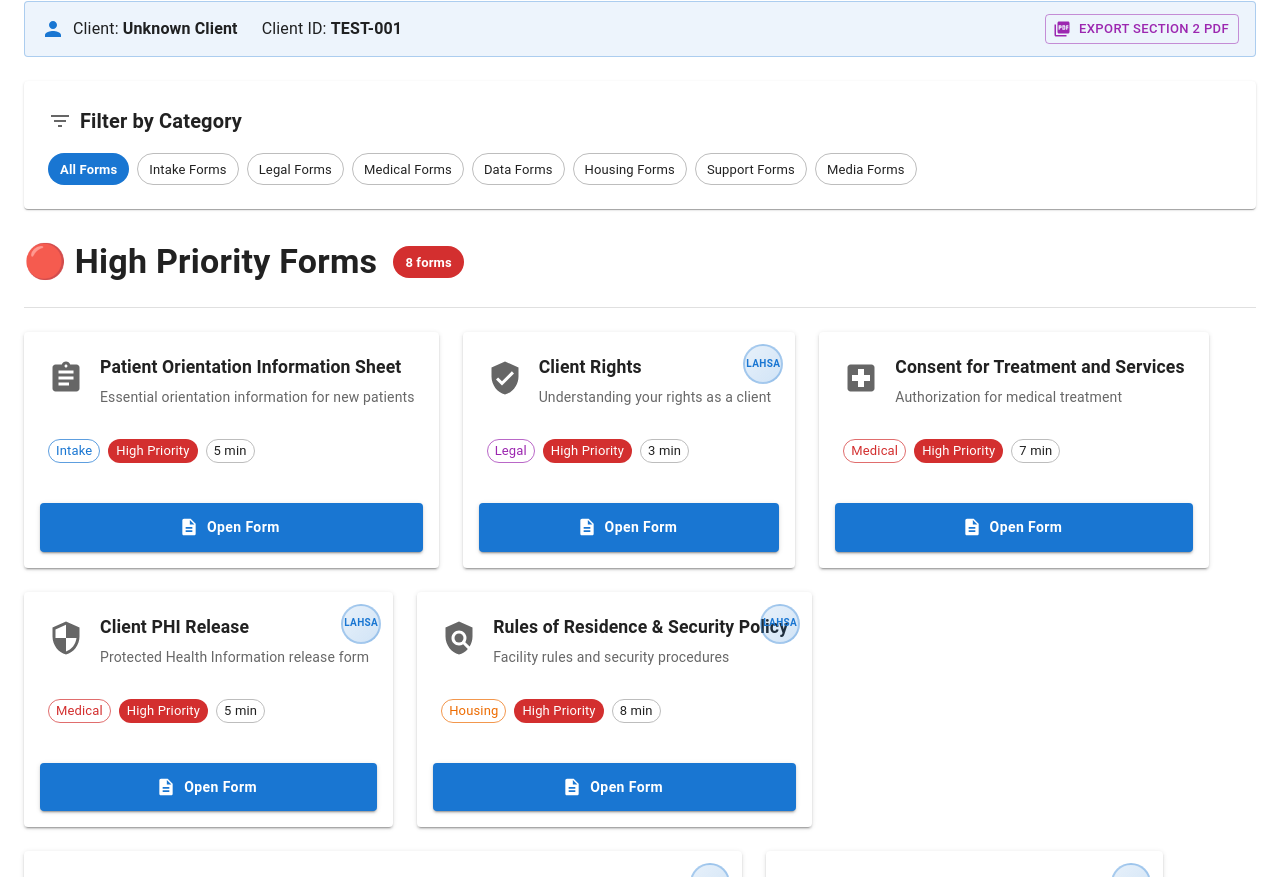
AuthSig - Authorization Forms Container › Modal Functionality › should display correct form in modal
(page scrolled)
Click the text "Client Rights" at (629,450), box [463,332,795,568]
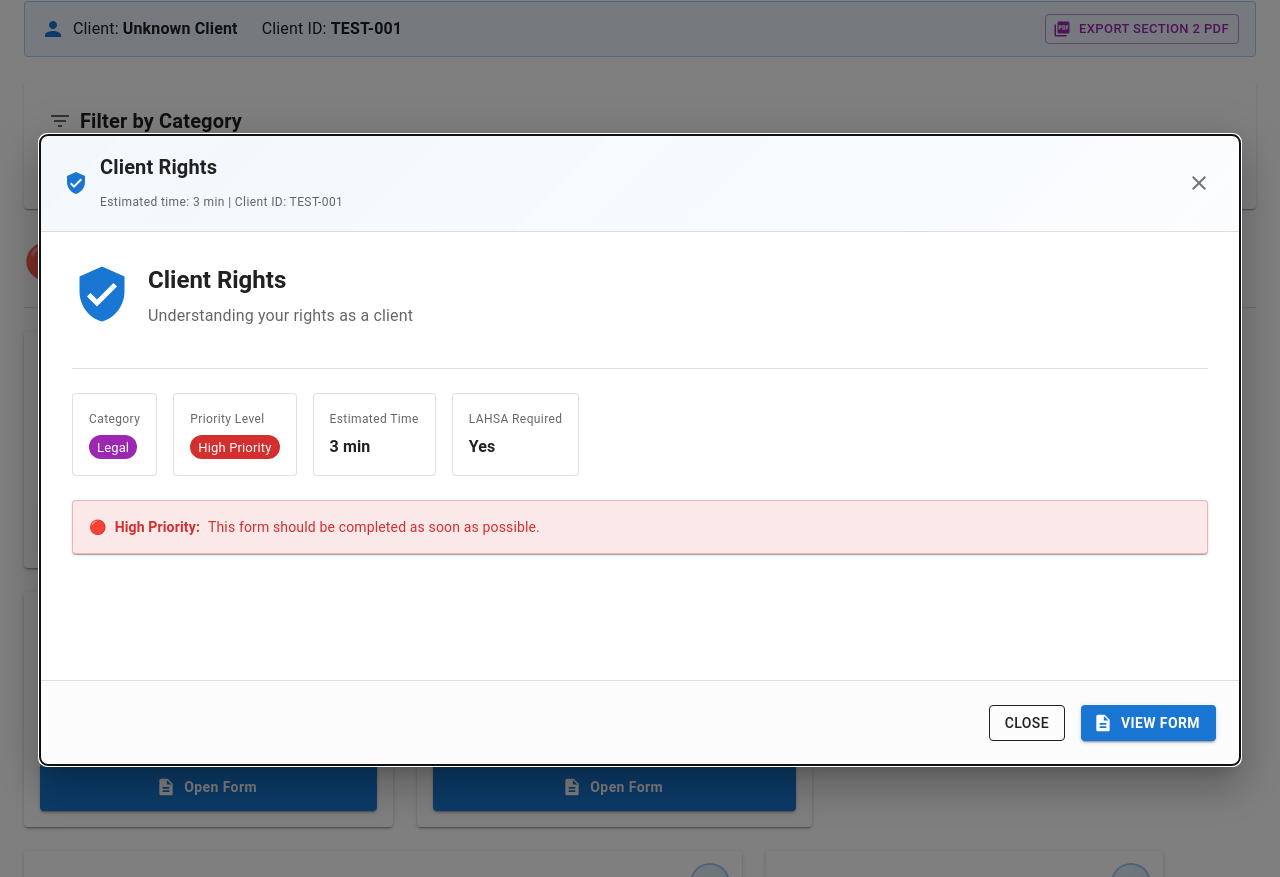
Expected: the text "Understanding your rights as a client" next to "Authorization for medical treatment" is shown, [539,389,771,405]
Expected: the dialog is shown
